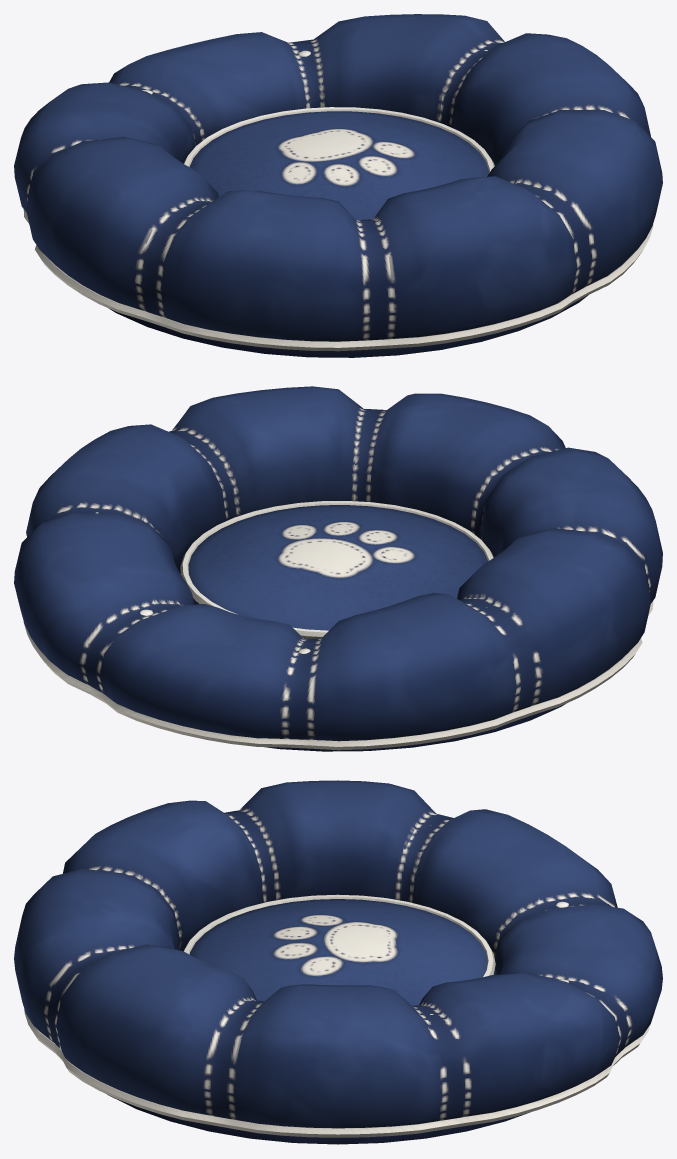
The model's file is pet-bed-round.fbx.
3 renders of one model, top to bottom at view 1: azimuth 30°, elevation 25°; view 2: azimuth 150°, elevation 25°; view 3: azimuth 270°, elevation 25°, orthographic.
Parts seen in each view (by area): view 1: Body; view 2: Body; view 3: Body.
Boxes of the visible parts, x1=… form: Body: x1=14, y1=14, x2=662, y2=357; Body: x1=14, y1=386, x2=662, y2=751; Body: x1=14, y1=780, x2=662, y2=1144.
Size of the model in its own units: 0.842 by 0.1859 by 0.8436.
